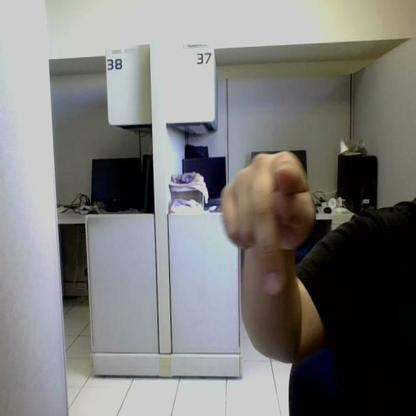P: (221, 150, 315, 296)
